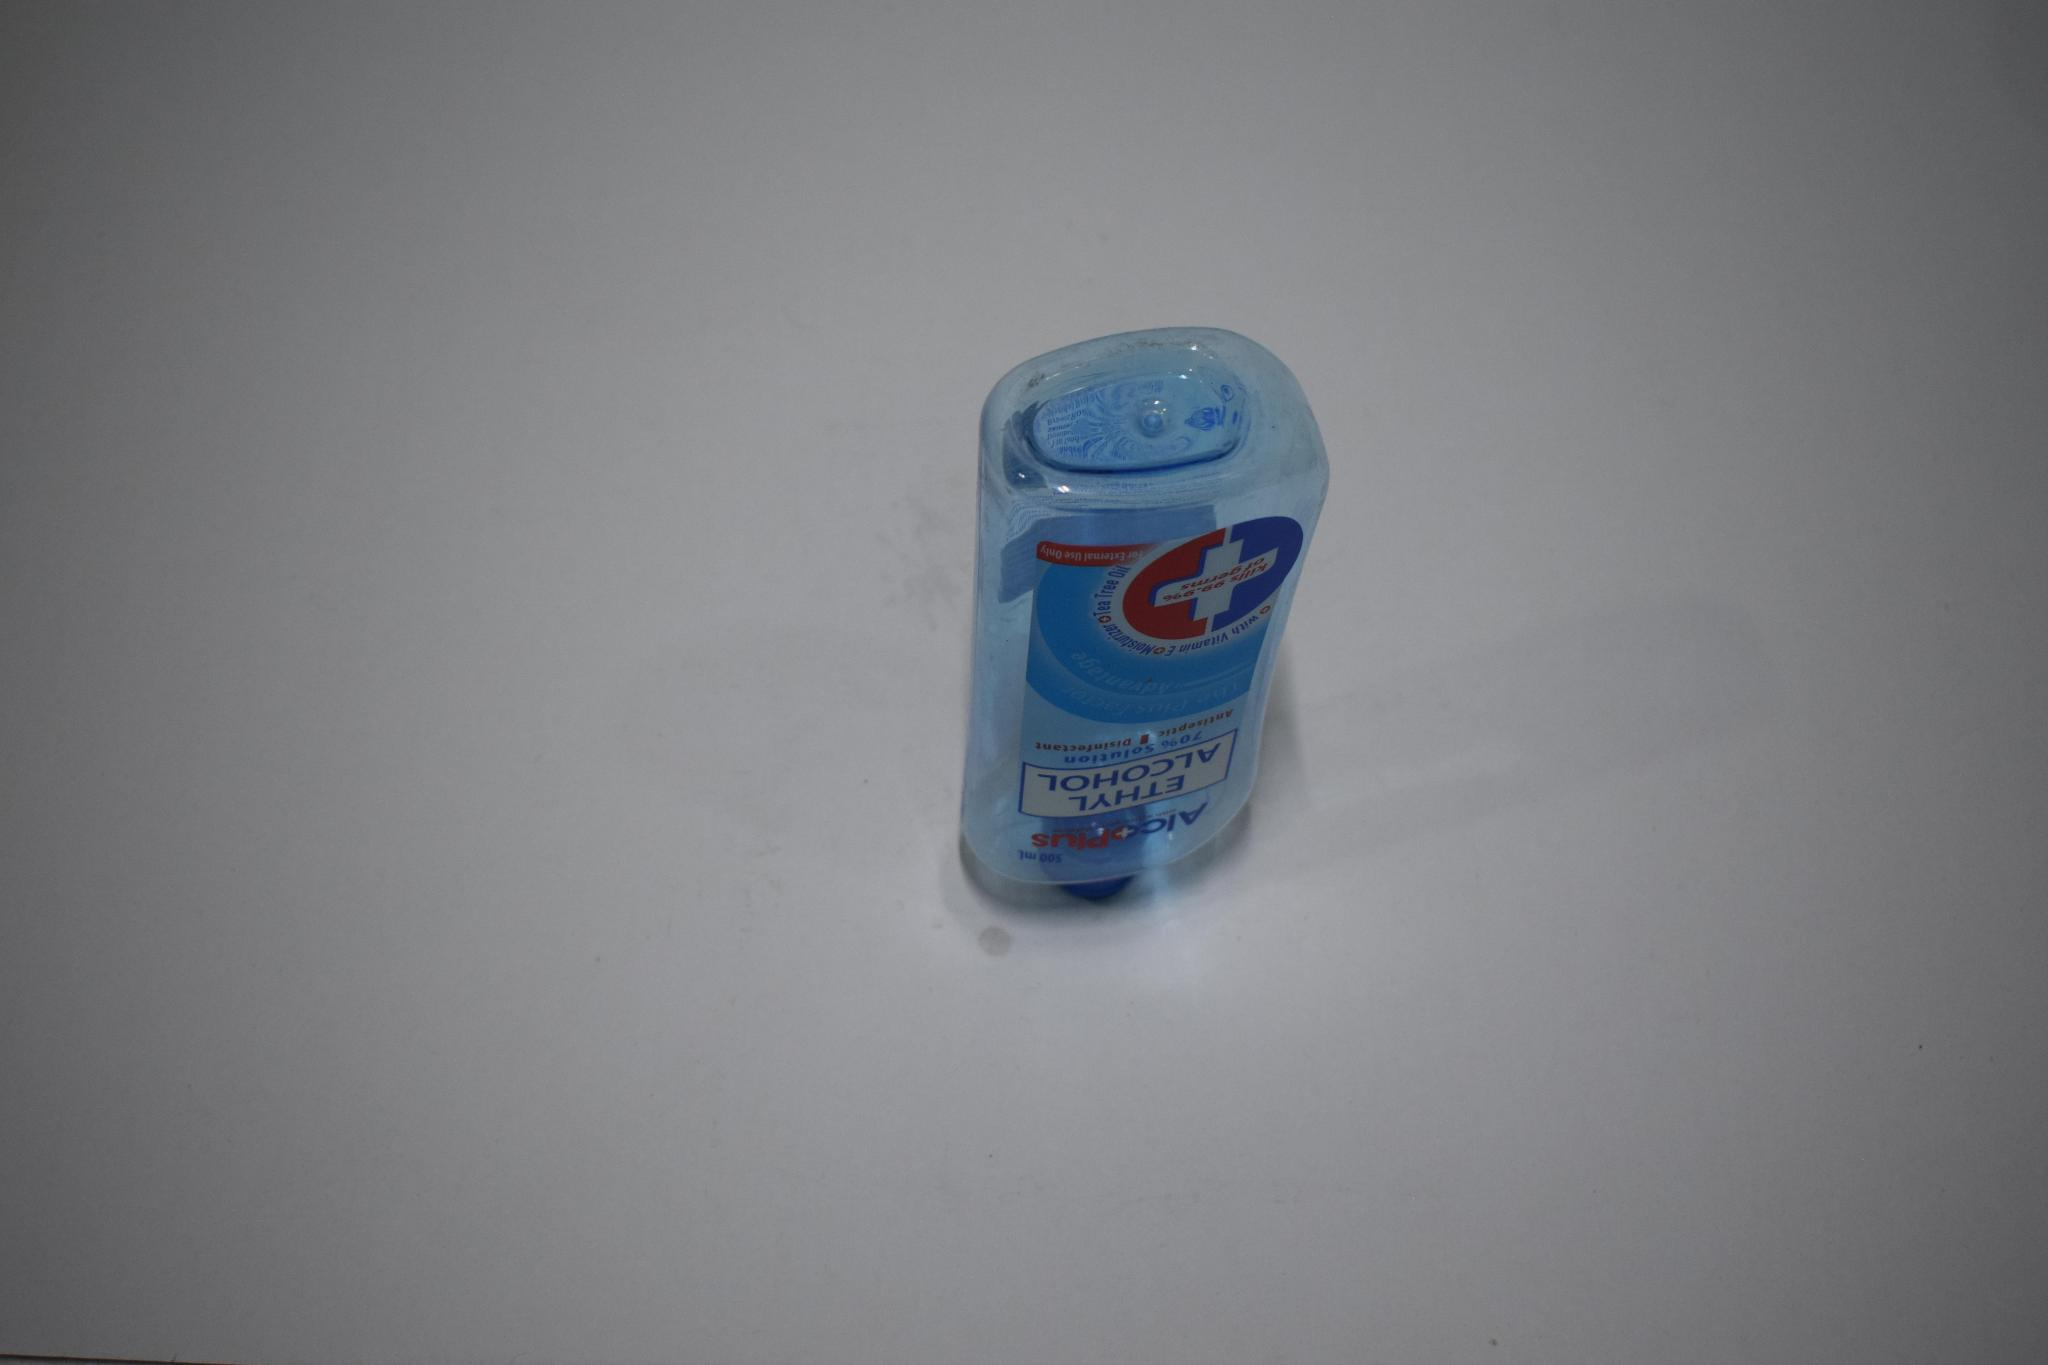bottle: (939, 282, 1341, 949)
